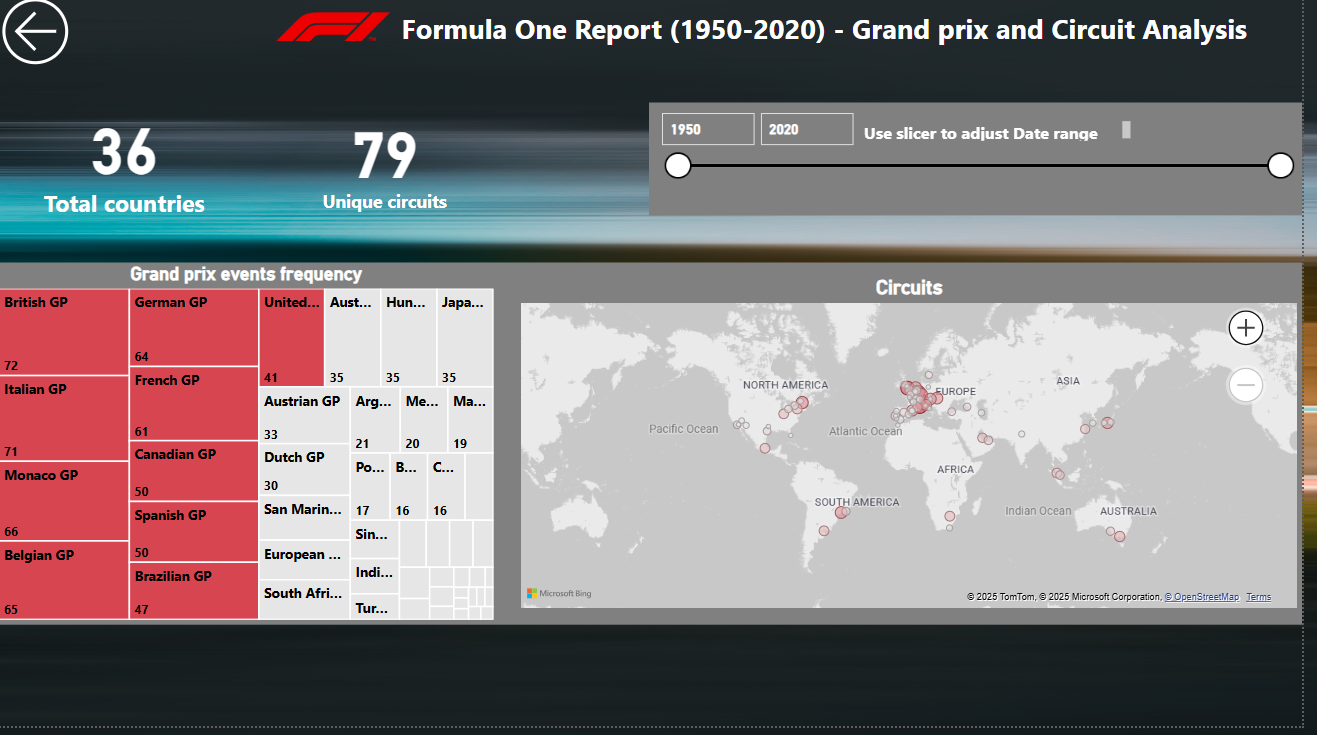

Layout of this report page (visuals, bound fields, positions):
{"tool":"powerbi","page":{"name":"grand prix & circuit _analysis page","canvas":[1280,720],"ordinal":3},"visuals":[{"type":"shape","box":[0,267,1279.8,354.3],"z":0},{"type":"textbox","box":[393.2,14.6,886.7,46.9],"z":1000},{"type":"image","box":[271.8,14.6,121.3,42.1],"z":2000},{"type":"card","fields":{"Values":["Count(circuits.country)"]},"box":[25.9,95.5,203.9,139.1],"z":3000},{"type":"card","fields":{"Values":["Count(circuits.circuit_name)"]},"box":[271.8,95.5,221.7,139.1],"z":4000},{"type":"treemap","title":"Grand prix events frequency","fields":{"Values":["Sum(results.race_wins)"],"Group":["races.grand_prix"]},"box":[0,267,493.5,354.3],"z":5000},{"type":"slicer","fields":{"Values":["races.date.Variation.Date Hierarchy.Year"]},"box":[640.7,110,639.1,110],"z":6000},{"type":"textbox","box":[846.2,123,270.2,29.1],"z":7000},{"type":"map","title":"Circuits","fields":{"Y":["circuits.latitude"],"X":["circuits.longitude"],"Size":["CountNonNull(races.grand_prix)"]},"box":[511.3,279.9,768.5,330.1],"z":8000},{"type":"actionButton","box":[0,0,212,80.9],"z":9000}]}

Visuals, with their boxes in screenshot pixels (x1, y1, x2, y2), scaled from the page's 1280x720 canvas onto the 1317x735 screenshot:
shape: BBox(0, 273, 1316, 634)
textbox: BBox(405, 15, 1316, 63)
image: BBox(280, 15, 404, 58)
card - Count(circuits.country): BBox(27, 97, 236, 239)
card - Count(circuits.circuit_name): BBox(280, 97, 508, 239)
"Grand prix events frequency" treemap: BBox(0, 273, 508, 634)
slicer - races.date.Variation.Date Hierarchy.Year: BBox(659, 112, 1316, 225)
textbox: BBox(871, 126, 1149, 155)
"Circuits" map: BBox(526, 286, 1316, 623)
actionButton: BBox(0, 0, 218, 83)
